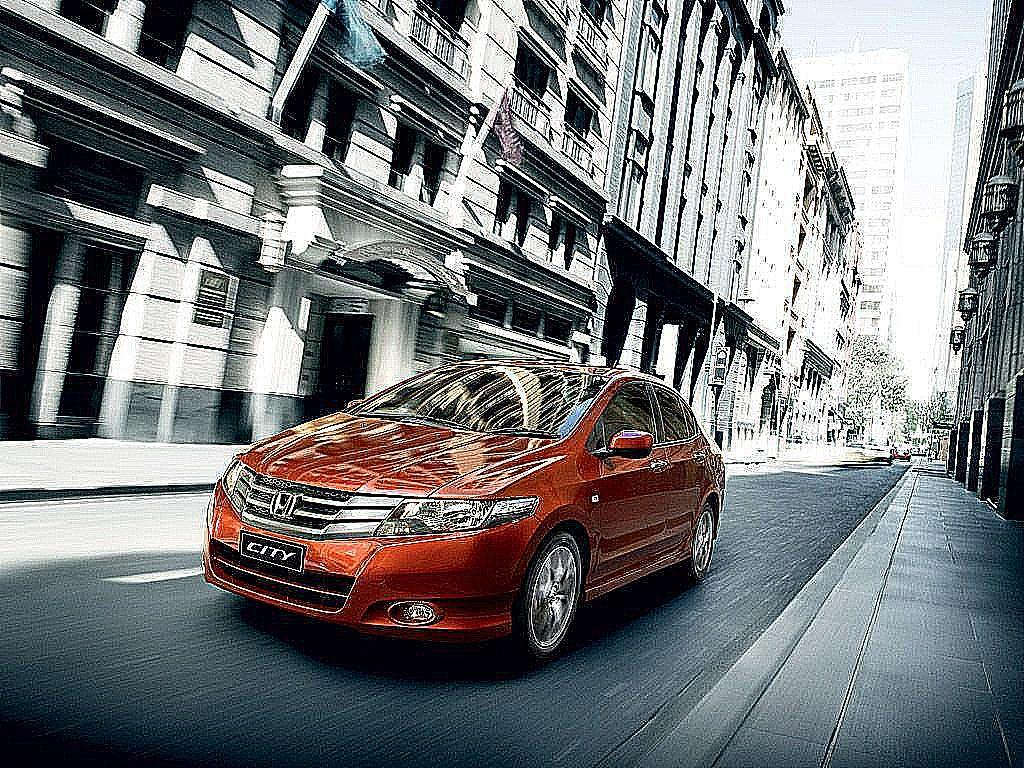Car hood: (231, 410, 557, 508)
Fender - -F-L-: (529, 436, 602, 611)
Front bumper: (203, 503, 546, 649)
Headlight - -L-: (370, 490, 539, 540)
Headlight - -R-: (219, 455, 246, 505)
Passenger-s door - -F-L-: (580, 365, 674, 616)
Passenger-s door - -R-L-: (650, 364, 715, 596)
Side bumper - -L-: (577, 532, 698, 612)
Side mirror - -L-: (593, 425, 656, 474)
